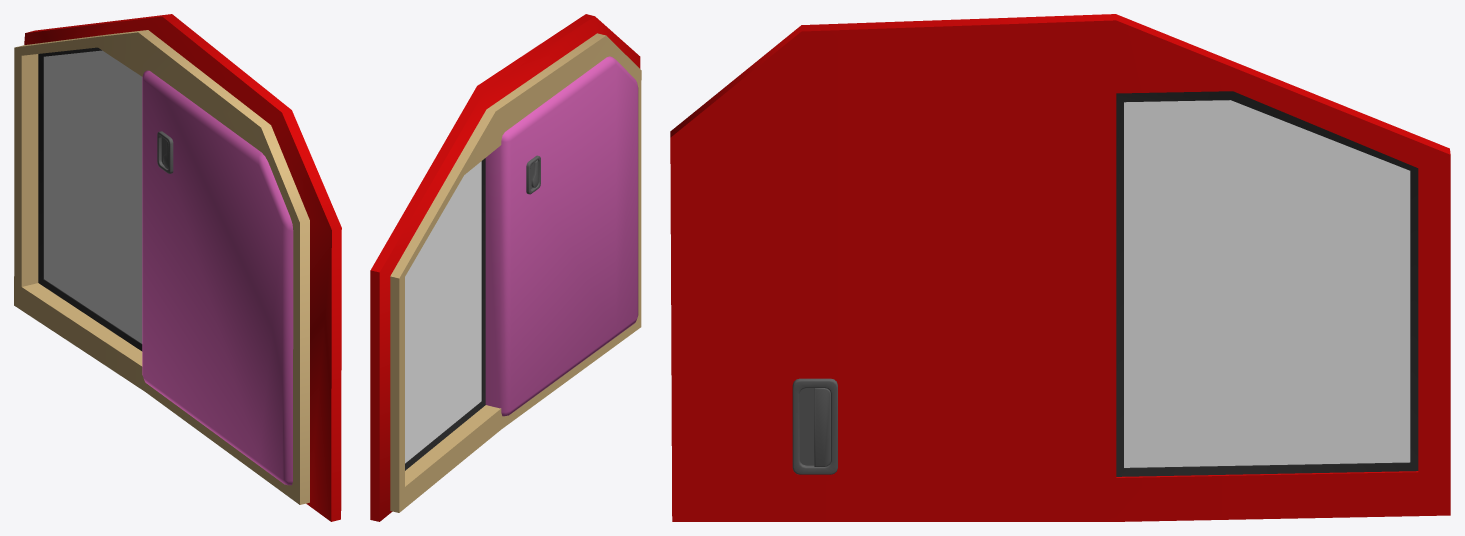
File: DumpTruck_01_DoorLeft.fbx
The picture shows the model from 3 angles, left to right: view 1: azimuth 30°, elevation 25°; view 2: azimuth 150°, elevation 25°; view 3: azimuth 270°, elevation 25°; orthographic projection. The views are drawn at different scales.
Visible parts, largest first — view 1: DumpTruck_01_DoorLeft; view 2: DumpTruck_01_DoorLeft; view 3: DumpTruck_01_DoorLeft.
Boxes of the visible parts, x1=… form: DumpTruck_01_DoorLeft: x1=14, y1=14, x2=341, y2=521; DumpTruck_01_DoorLeft: x1=370, y1=14, x2=641, y2=521; DumpTruck_01_DoorLeft: x1=670, y1=14, x2=1450, y2=521.
Bounding box in the file's own units: 0.1191 × 1.1 × 1.55.
